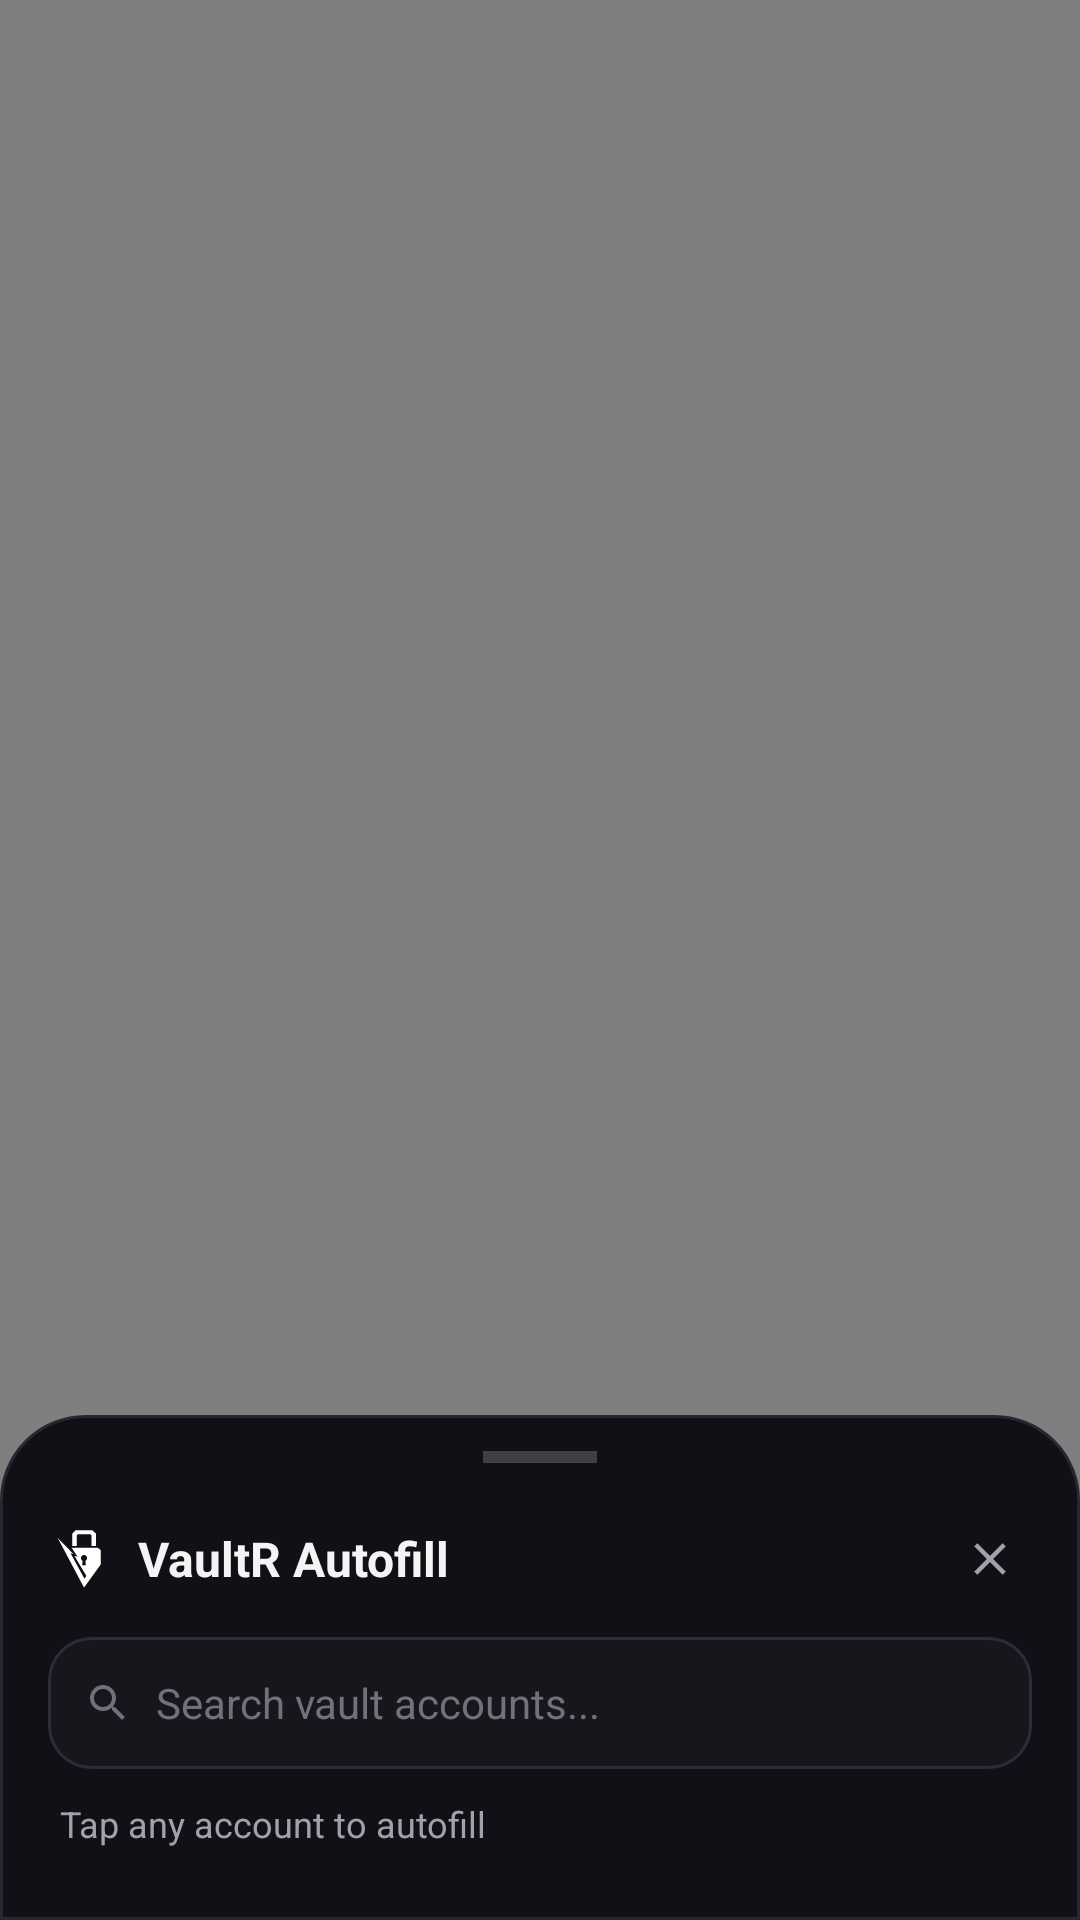

Point at icon controls on the screen. Image size 1080w x 1920h, points as point (x, y).
Close: point (990, 1559)
